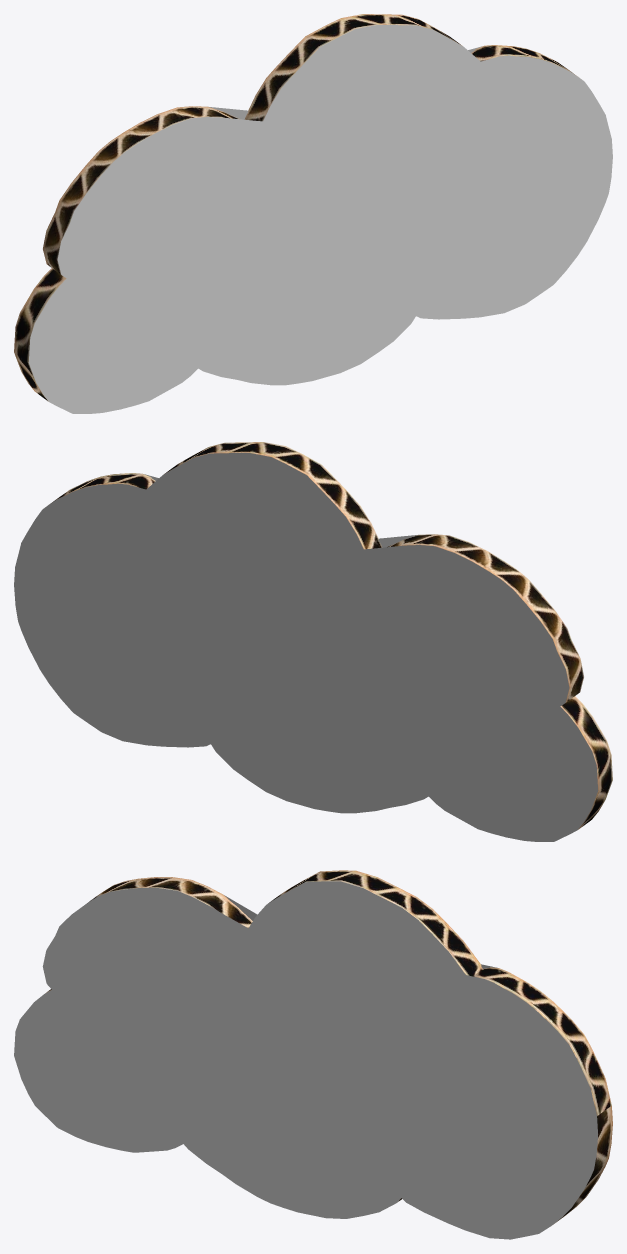
The model's file is cloud2.fbx.
The picture shows the model from 3 angles, top to bottom: view 1: azimuth 30°, elevation 25°; view 2: azimuth 150°, elevation 25°; view 3: azimuth 330°, elevation 25°; orthographic projection.
Parts seen in each view (by area): view 1: cloud2; view 2: cloud2; view 3: cloud2.
Part boxes in pixels (x1=…): cloud2: x1=14, y1=14, x2=612, y2=413; cloud2: x1=14, y1=442, x2=612, y2=841; cloud2: x1=14, y1=870, x2=612, y2=1239.
Bounding box in the file's own units: 467 × 261 × 20.57.
